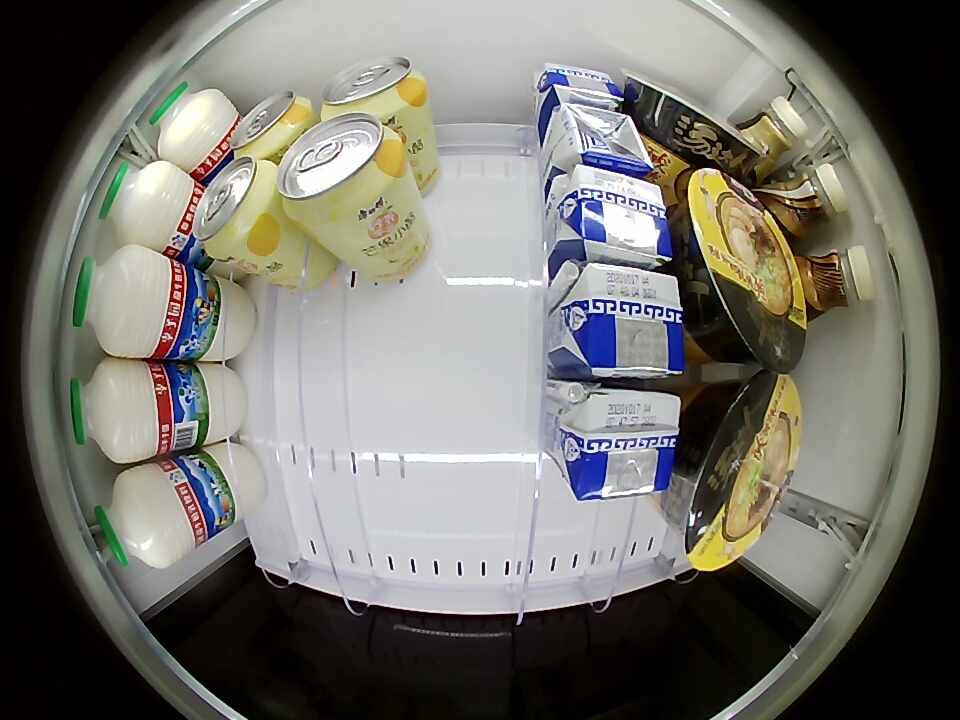anmuxi: (563, 262, 687, 380), (559, 387, 682, 502), (555, 164, 674, 267), (548, 101, 655, 175), (535, 63, 625, 113)
kafei: (762, 164, 850, 236), (732, 96, 808, 175), (794, 245, 876, 318)
liziyuan: (71, 246, 179, 358), (94, 462, 199, 570), (69, 359, 162, 462), (98, 159, 197, 253), (149, 82, 236, 172)
mangguoxiaolao: (277, 112, 404, 228), (192, 156, 280, 259), (320, 56, 427, 119), (233, 91, 313, 160)
tangdaren2: (679, 168, 806, 372), (677, 370, 803, 572), (627, 71, 758, 178)
